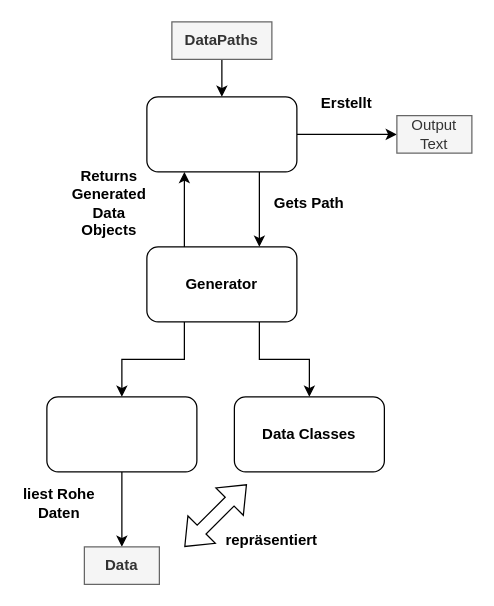
The diagram is 494 pixels wide and 606 high, and some of its shapes have lost their labels. Here are the shapes that lost their labels. From the top down, the centre of each, then its label:
At [221,134]: "App".
At [121,434]: "utility".
